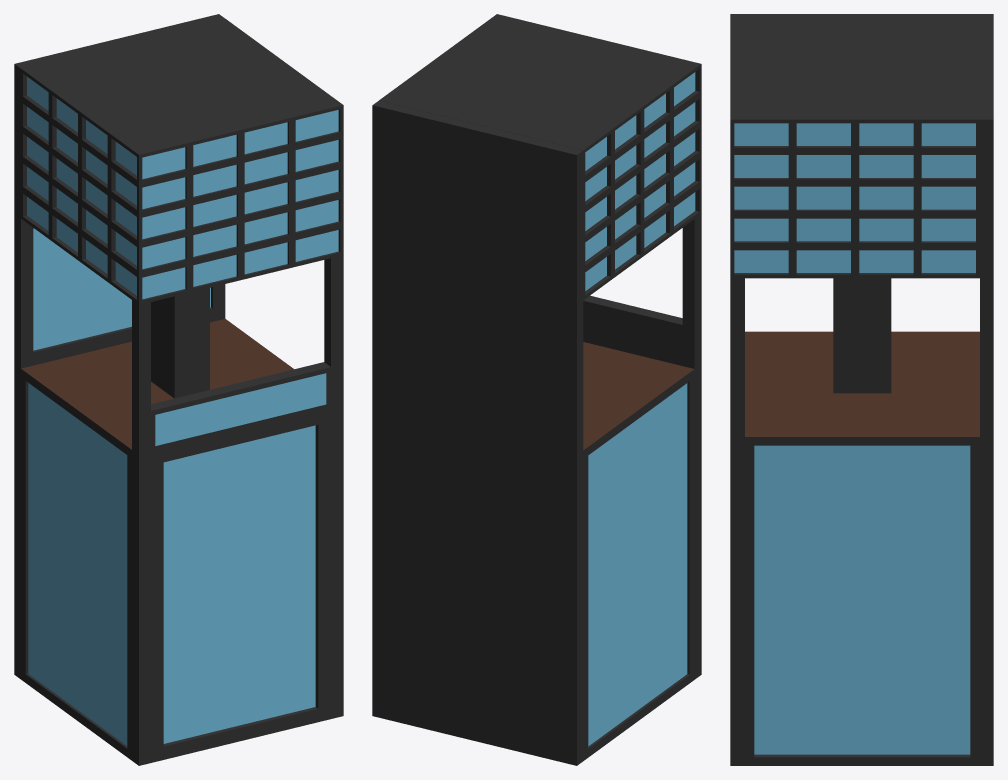
The model's file is building2.fbx.
The picture shows the model from 3 angles, left to right: view 1: azimuth 30°, elevation 25°; view 2: azimuth 150°, elevation 25°; view 3: azimuth 270°, elevation 25°; orthographic projection. The views are drawn at different scales.
Visible parts, largest first — view 1: Cube.013; view 2: Cube.013; view 3: Cube.013.
Part boxes in pixels (<box>): Cube.013: <box>14,14,343,765</box>; Cube.013: <box>372,14,701,765</box>; Cube.013: <box>730,14,993,765</box>.
Size of the model in its own units: 1940 by 5538 by 2046.
